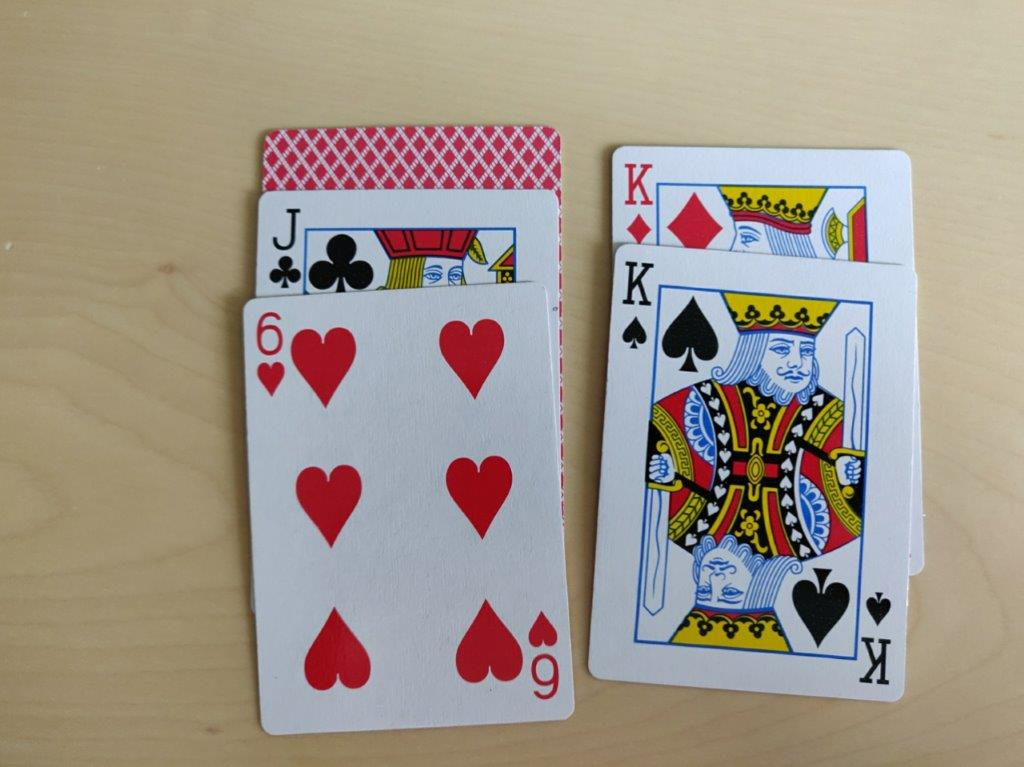6H: (251, 309, 288, 400)
BACK: (261, 120, 563, 193)
JC: (262, 204, 305, 291)
KD: (619, 158, 655, 246)
KS: (619, 257, 656, 350)
